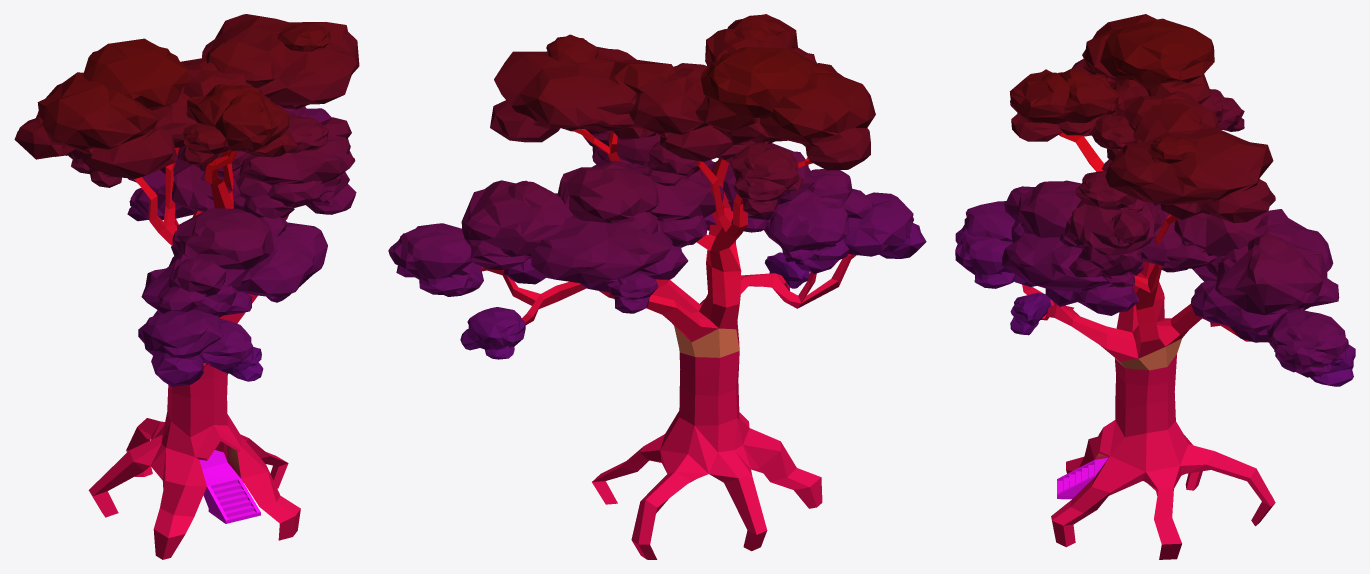
File: Vaestis.fbx
3 renders of one model, left to right at view 1: azimuth 30°, elevation 25°; view 2: azimuth 150°, elevation 25°; view 3: azimuth 270°, elevation 25°, orthographic. The views are drawn at different scales.
Visible parts, largest first — view 1: SM_Tree_Large_01.017; view 2: SM_Tree_Large_01.017; view 3: SM_Tree_Large_01.017.
Part boxes in pixels (x1,y1,x2,y2): SM_Tree_Large_01.017: [14, 14, 359, 559]; SM_Tree_Large_01.017: [388, 14, 926, 559]; SM_Tree_Large_01.017: [955, 14, 1355, 559].
Bounding box in the file's own units: 782 × 901 × 705.
